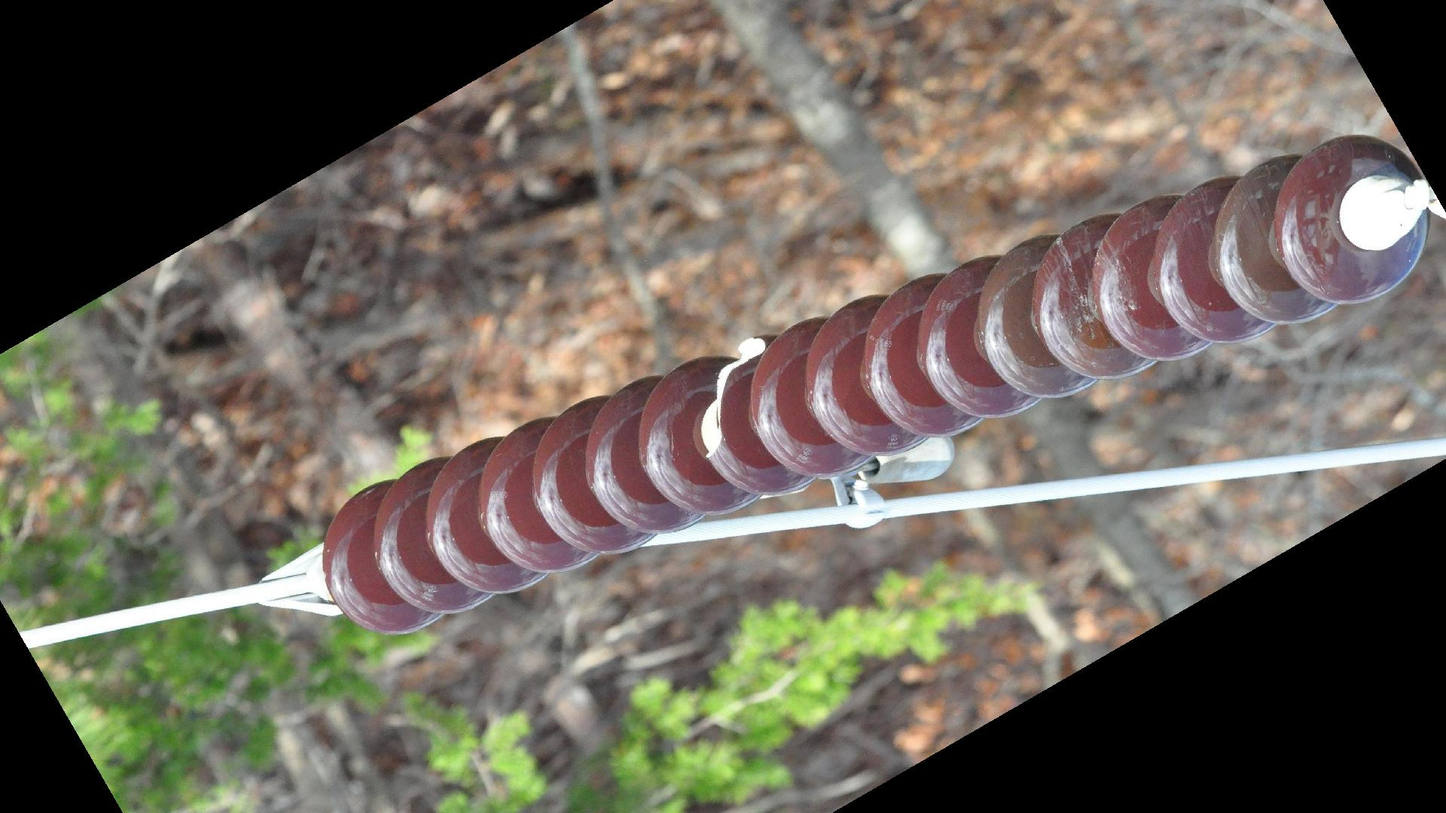insulator: (317, 129, 1432, 642)
insulator_breakage: (700, 332, 771, 466)
